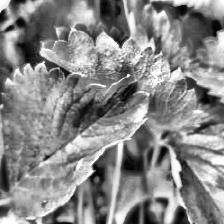Powdery Mildew Leaf: (0, 60, 150, 224), (38, 19, 205, 144)
